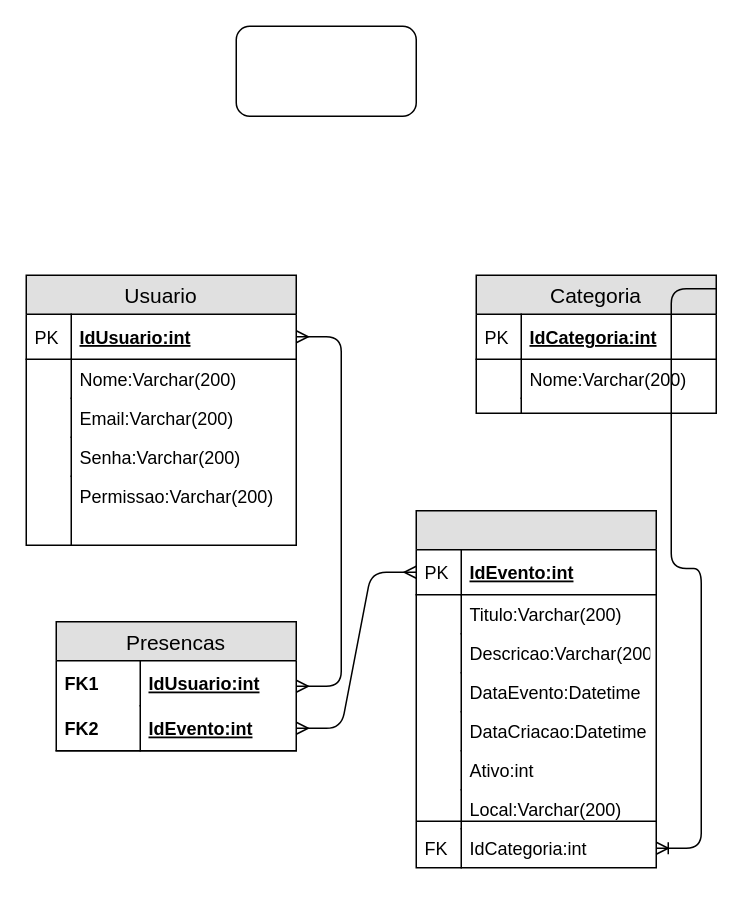
The diagram is 755 pixels wide and 899 high, and some of its shapes have lost their labels. The shapes that lost their labels are listed below. From the top down, each one's box as (x1, y1, x2, y2) in pixels, then its label:
(235, 25, 416, 116): LOGICO
(415, 509, 656, 868): Eventos
